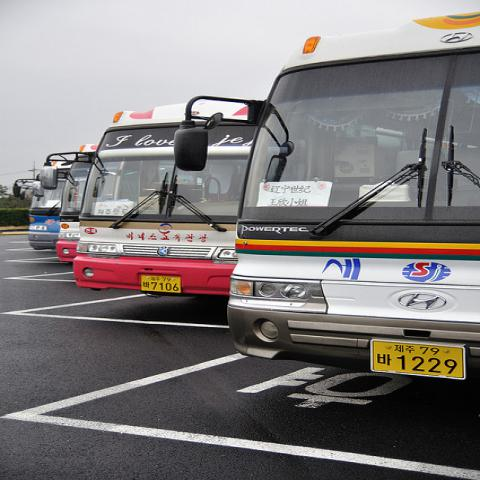bus: (175, 11, 479, 376), (70, 105, 256, 299), (31, 152, 78, 246), (56, 154, 96, 262)
